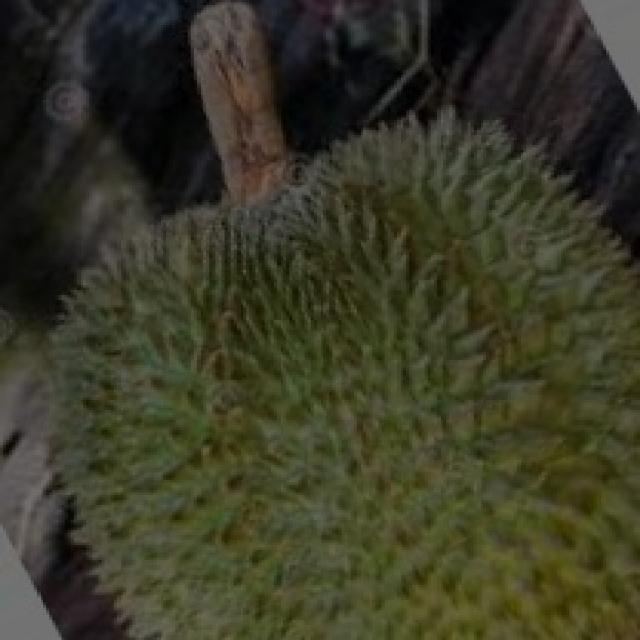fruit: (231, 62, 640, 482), (0, 158, 348, 612)
